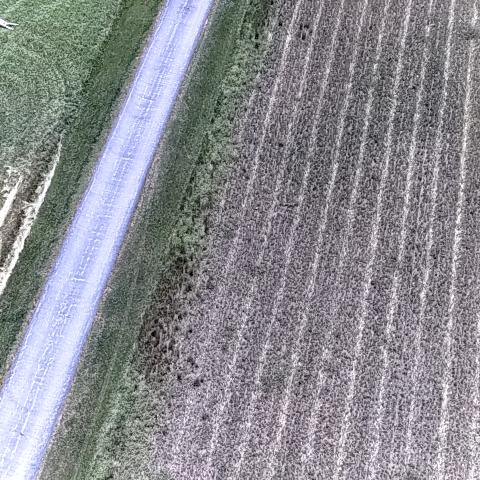person: (0, 16, 17, 31)
